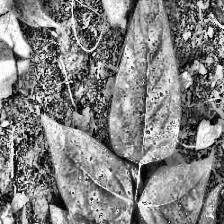ALS: (111, 0, 184, 165), (42, 112, 133, 224), (140, 149, 214, 224)
